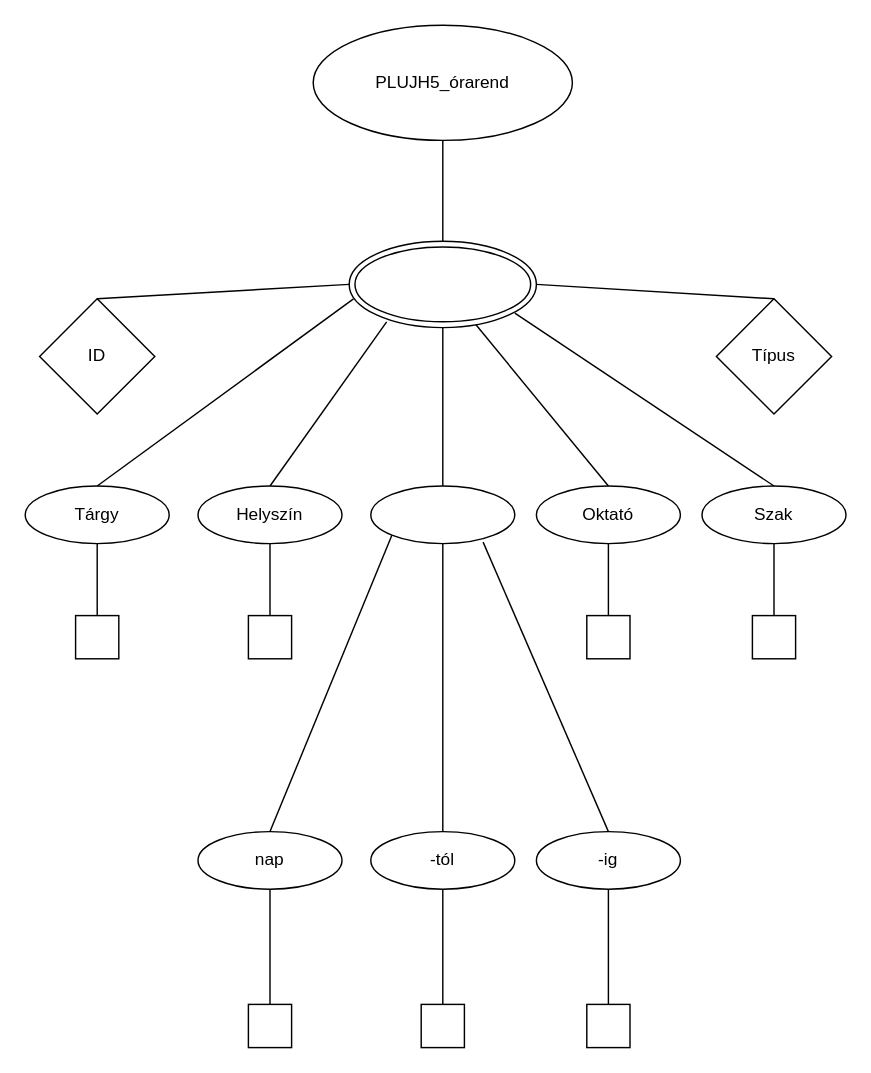
The diagram is 871 pixels wide and 1073 high, and some of its shapes have lost their labels. The centre of each missing label's shape, as x and y in pixels:
Időpont: the point at 442,514
Óra: the point at 442,284
